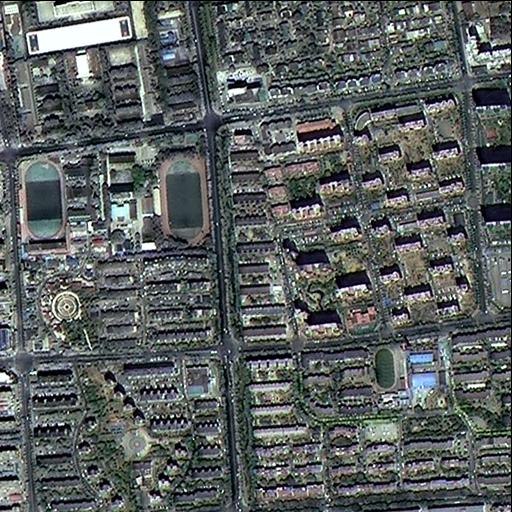school: (17, 146, 106, 255), (371, 341, 412, 414)
